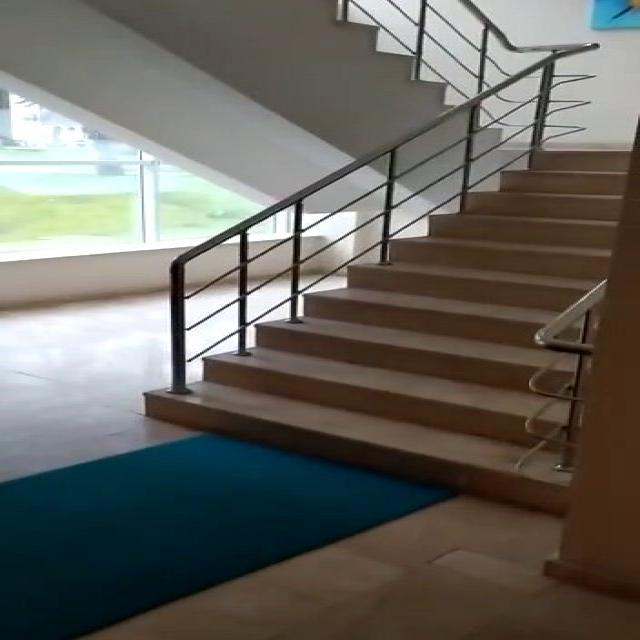stair: (95, 102, 640, 544)
